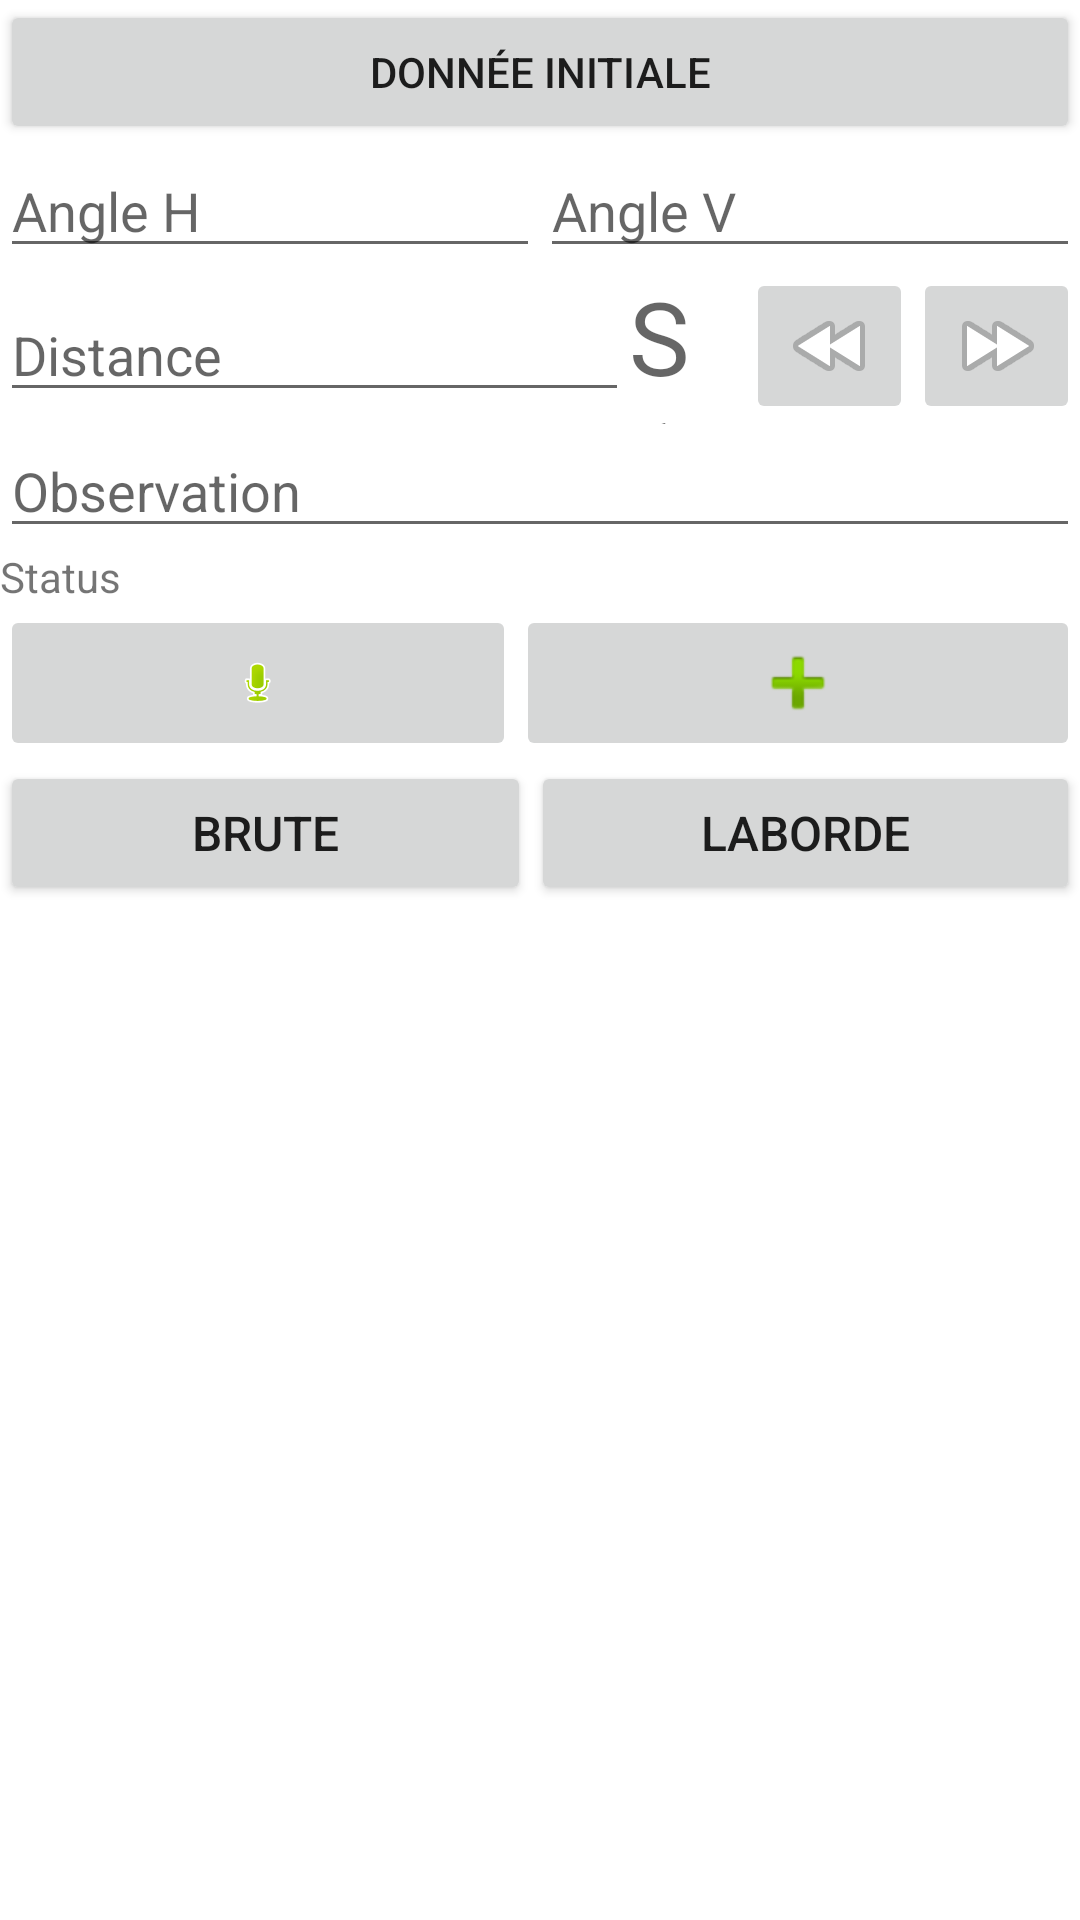

Where icons sit on this 1080×1920 app screen, as (x1, y1, x2, y2):
rew: (758, 286, 901, 406)
